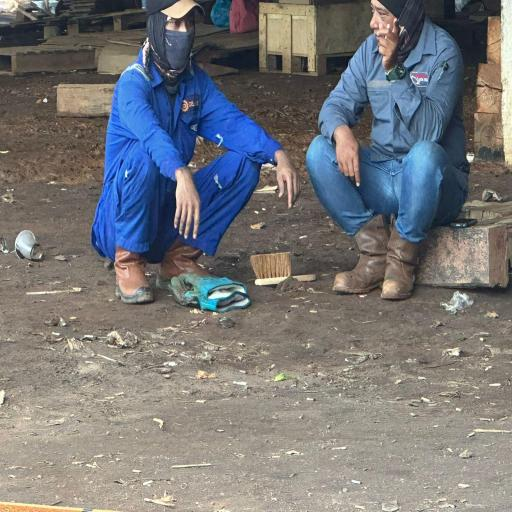safety_shoe: (337, 216, 388, 298), (378, 220, 421, 308), (111, 236, 150, 312), (162, 238, 216, 288)
